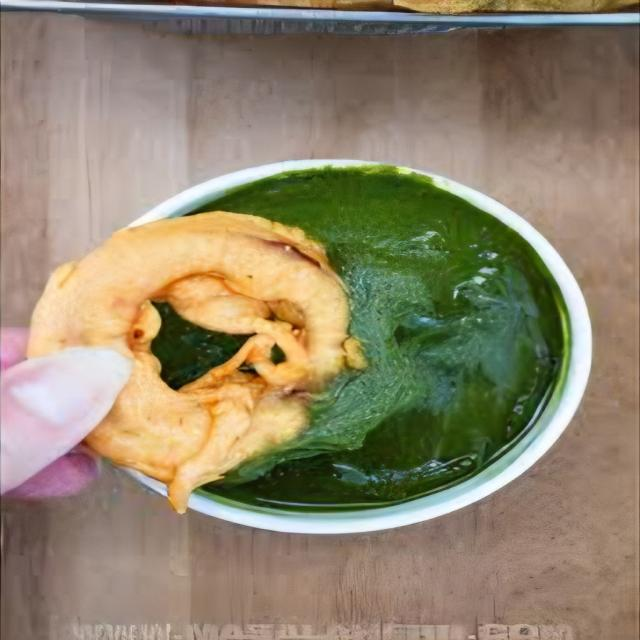GREEN CHUTNEY: (287, 167, 608, 507)
